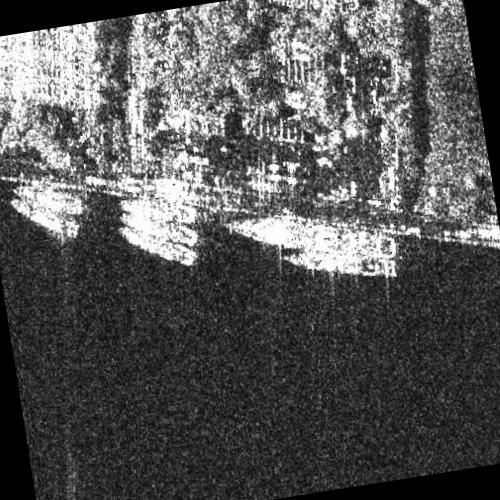ship: (225, 217, 398, 259), (118, 228, 198, 268), (281, 251, 398, 278), (10, 200, 79, 242), (120, 214, 199, 247), (119, 198, 199, 229), (15, 186, 85, 218)
